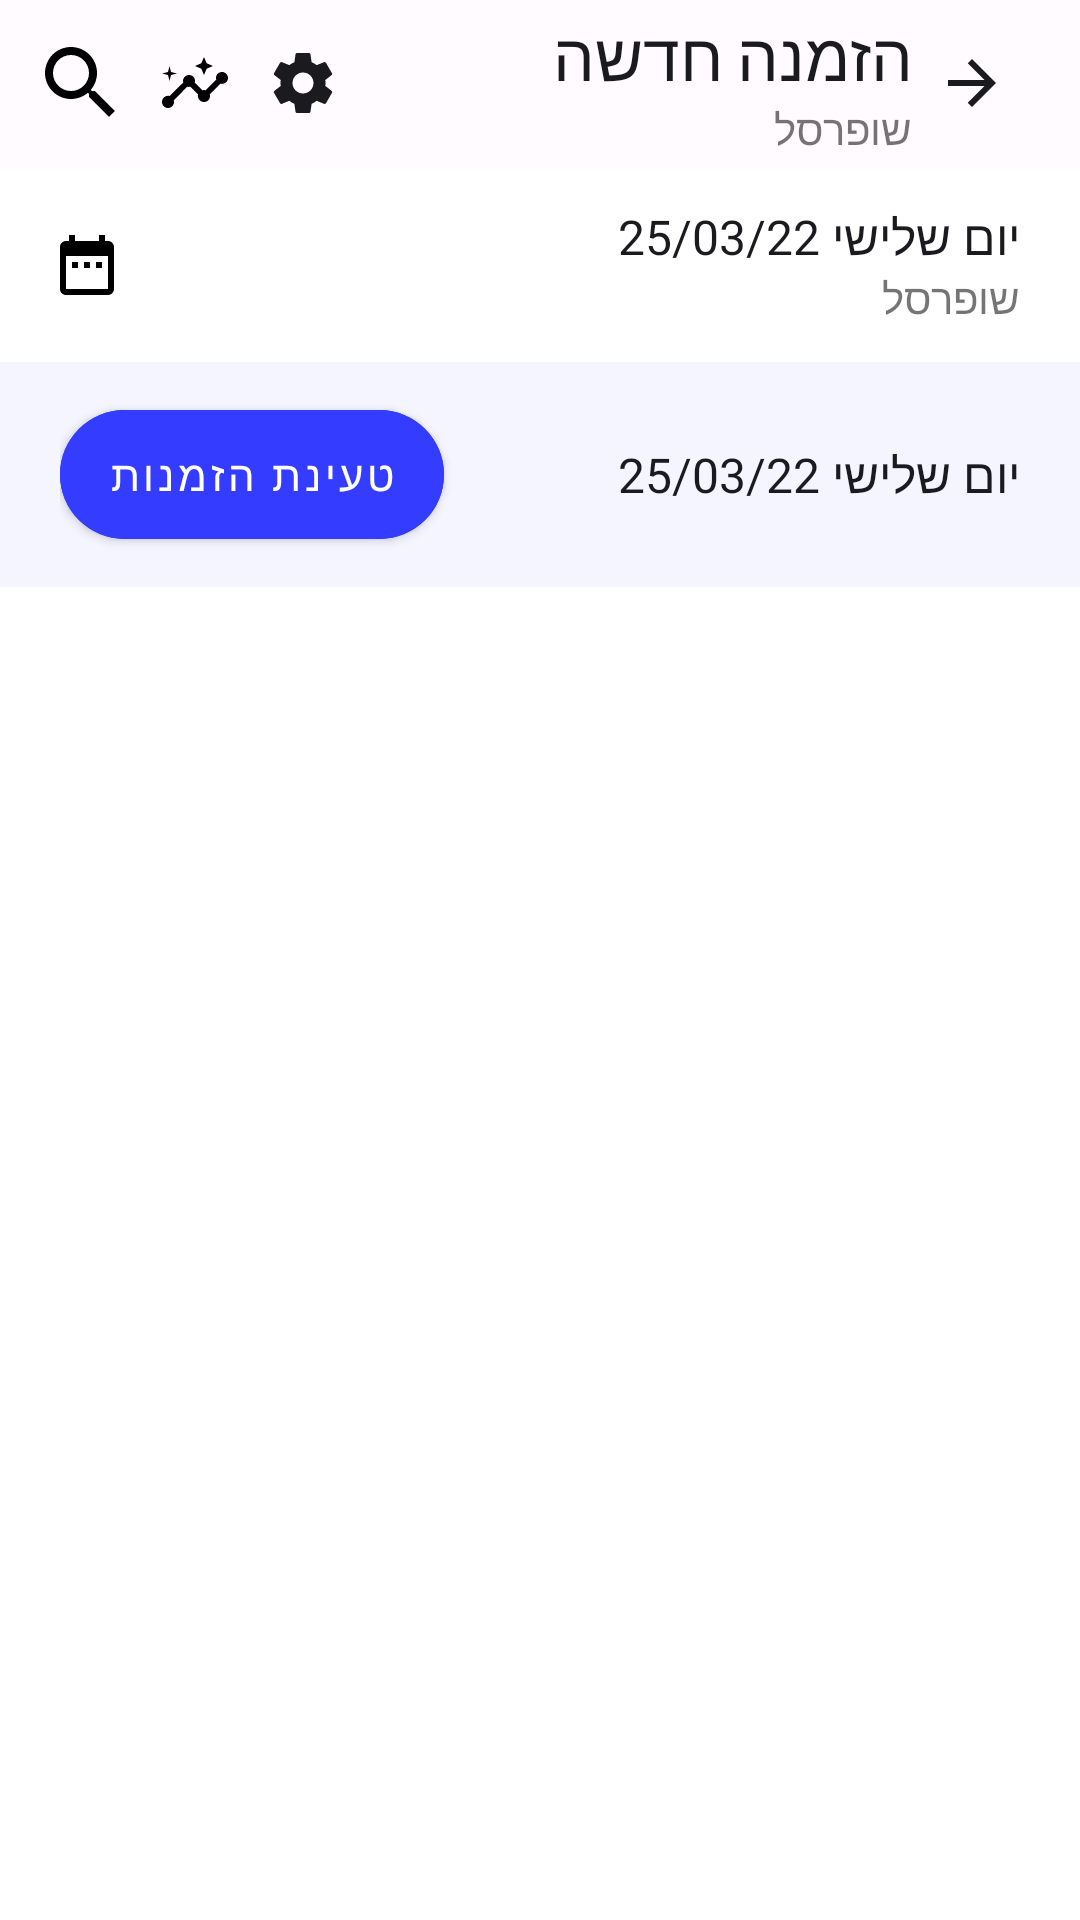

Icon click points for this 1080*1920 phone screenshot, format (x,y):
calendar: (87,265)
search: (80,82)
setting: (302,83)
